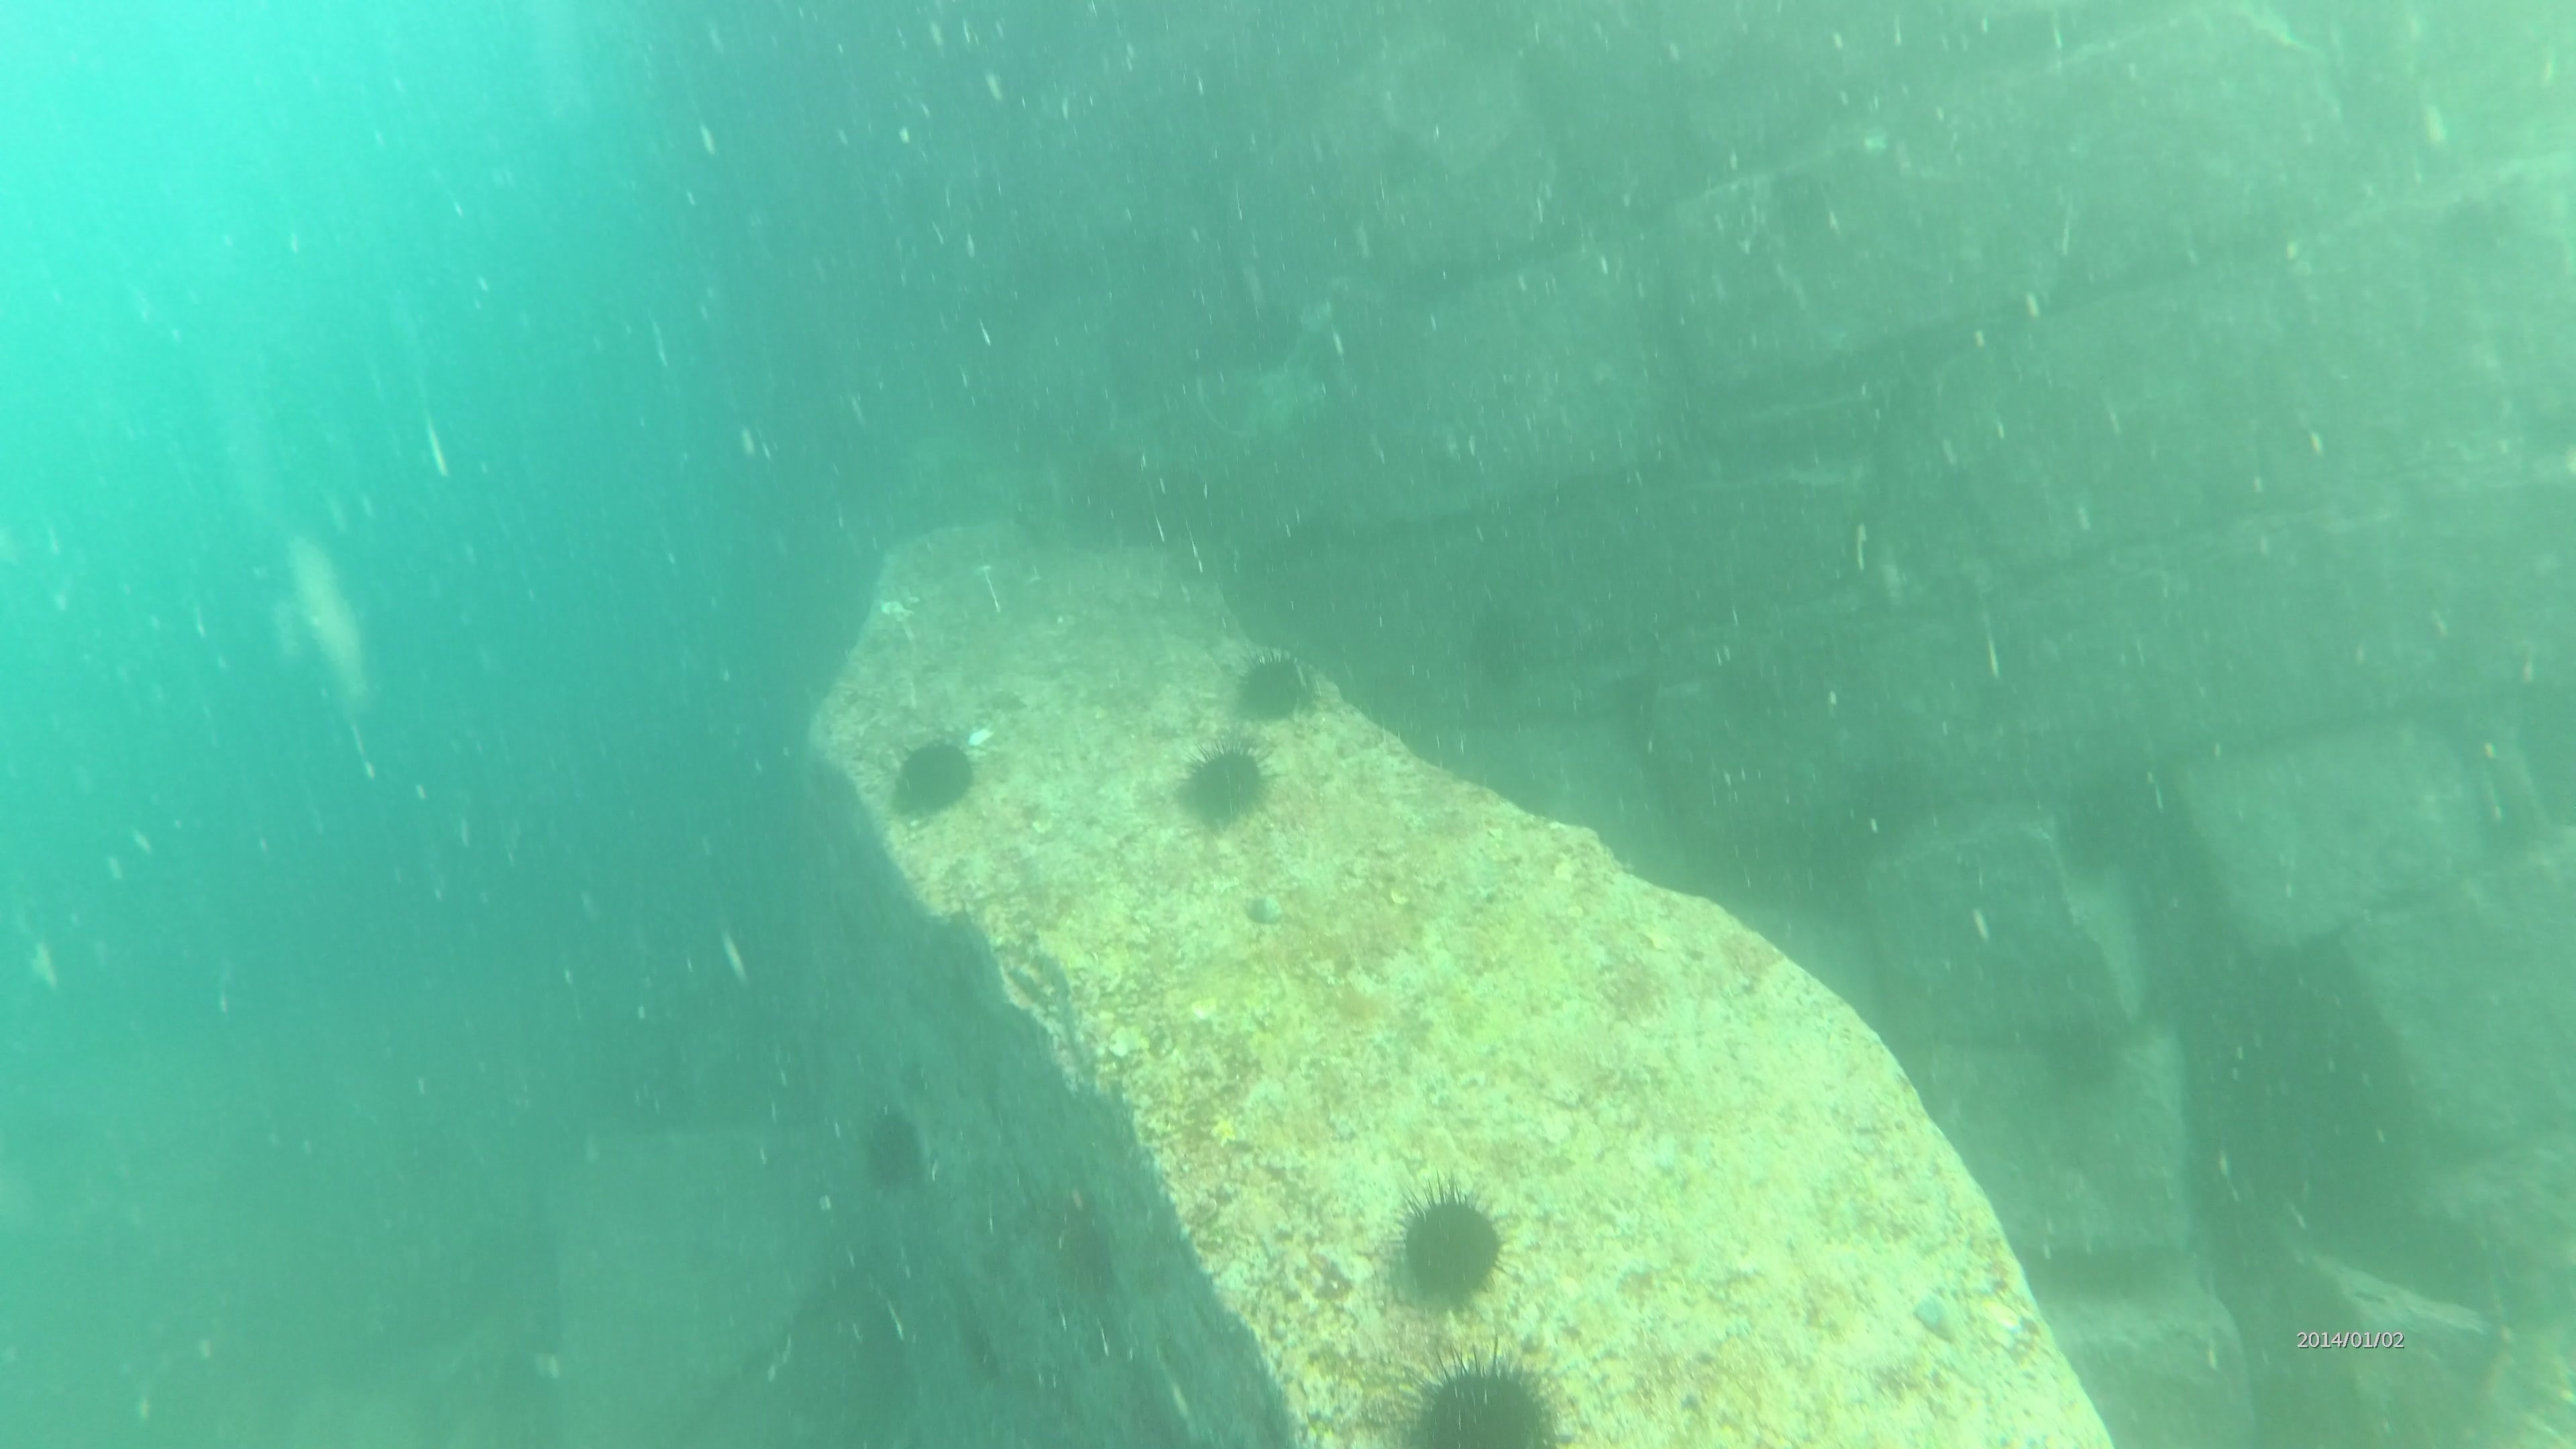echinus: (1382, 1178, 1518, 1318), (1392, 1346, 1573, 1447), (1171, 736, 1277, 833), (883, 727, 985, 826), (1224, 640, 1325, 729), (849, 1099, 938, 1200)
